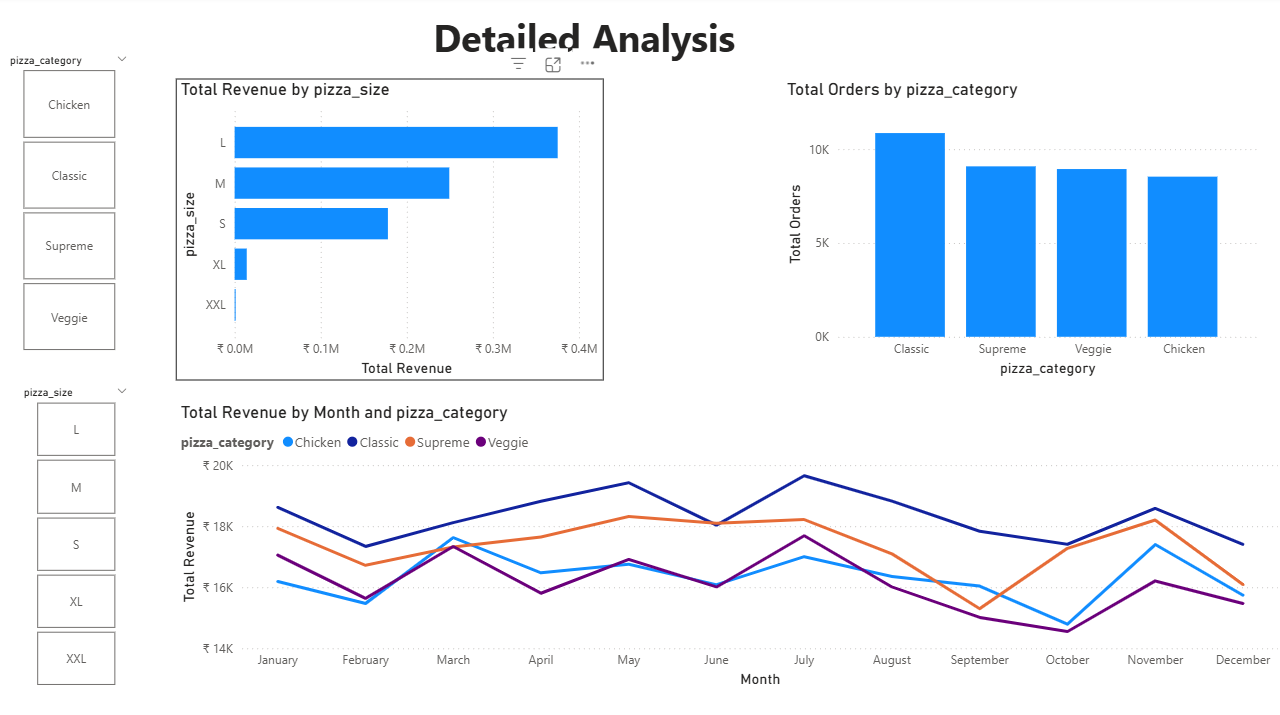

Layout of this report page (visuals, bound fields, positions):
{"tool":"powerbi","page":{"name":"Page 2","canvas":[1280,720],"ordinal":1},"visuals":[{"type":"textbox","box":[429.2,11.2,323.4,70.9],"z":0},{"type":"clusteredBarChart","fields":{"Category":["pizza_sales_excel_file.pizza_size"],"Y":["pizza_sales_excel_file.Total Revenue"]},"box":[177.9,82.1,425.4,301],"z":1},{"type":"clusteredColumnChart","fields":{"Category":["pizza_sales_excel_file.pizza_category"],"Y":["pizza_sales_excel_file.Total Orders"]},"box":[781.2,82.1,477.7,301],"z":2},{"type":"slicer","fields":{"Values":["pizza_sales_excel_file.pizza_category"]},"box":[0,52.2,141.8,307.3],"z":4},{"type":"slicer","fields":{"Values":["pizza_sales_excel_file.pizza_size"]},"box":[13.7,383.1,128.1,309.7],"z":5},{"type":"lineChart","fields":{"Category":["pizza_sales_excel_file.order_date.Variation.Date Hierarchy.Month"],"Y":["pizza_sales_excel_file.Total Revenue"],"Series":["pizza_sales_excel_file.pizza_category"]},"box":[177.9,404.3,1102.1,288.6],"z":6}]}

Visuals, with their boxes in screenshot pixels (x1, y1, x2, y2), scaled from the page's 1280x720 canvas onto the 1280x715 screenshot:
textbox: (429,11,753,82)
clusteredBarChart - pizza_sales_excel_file.pizza_size x pizza_sales_excel_file.Total Revenue: (178,82,603,380)
clusteredColumnChart - pizza_sales_excel_file.pizza_category x pizza_sales_excel_file.Total Orders: (781,82,1259,380)
slicer - pizza_sales_excel_file.pizza_category: (0,52,142,357)
slicer - pizza_sales_excel_file.pizza_size: (14,380,142,688)
lineChart - pizza_sales_excel_file.order_date.Variation.Date Hierarchy.Month x pizza_sales_excel_file.Total Revenue: (178,401,1279,688)
